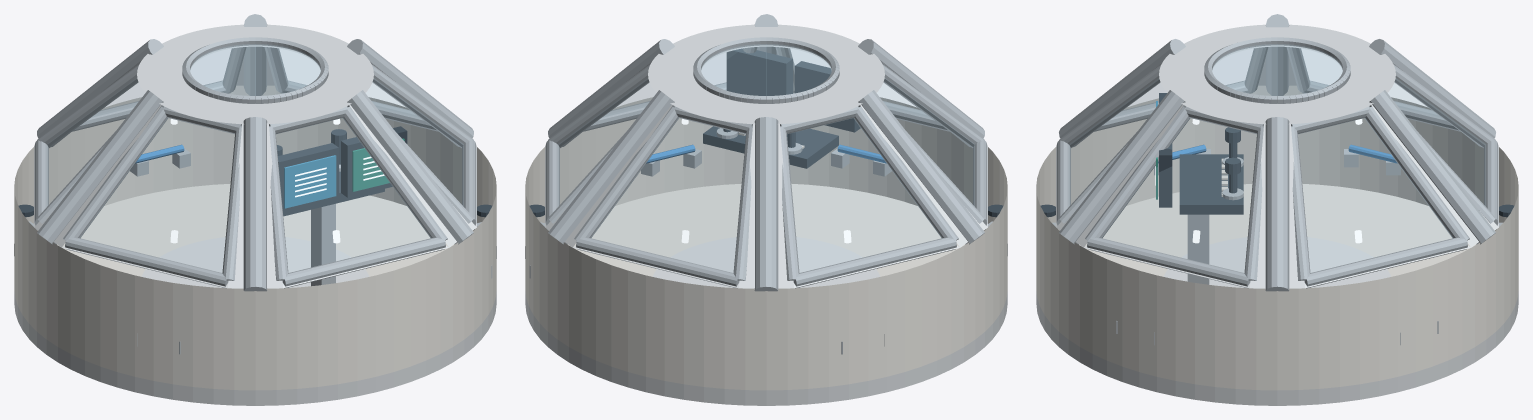
The model's file is cupola_detailed.glb.
3 views of the same model, side by side, from view 1: azimuth 30°, elevation 25°; view 2: azimuth 150°, elevation 25°; view 3: azimuth 270°, elevation 25° (orthographic).
Visible parts, largest first — view 1: nomex, steel, glass, hull, white, black, screen, screen2, light; view 2: nomex, glass, steel, hull, white, black, blue; view 3: nomex, steel, glass, hull, white, black, blue.
Part boxes in pixels (left/top/right/bottom): nomex: left=14, top=85, right=496, bottom=390; steel: left=14, top=14, right=496, bottom=354; glass: left=47, top=44, right=463, bottom=271; hull: left=14, top=24, right=496, bottom=405; white: left=57, top=183, right=454, bottom=276; black: left=18, top=126, right=492, bottom=217; screen: left=284, top=155, right=336, bottom=208; screen2: left=352, top=138, right=404, bottom=191; light: left=170, top=118, right=384, bottom=243; nomex: left=525, top=97, right=1007, bottom=390; glass: left=558, top=44, right=974, bottom=271; steel: left=525, top=14, right=1007, bottom=354; hull: left=525, top=24, right=1007, bottom=405; white: left=567, top=132, right=964, bottom=276; black: left=529, top=48, right=1003, bottom=217; blue: left=646, top=144, right=886, bottom=163; nomex: left=1036, top=85, right=1518, bottom=390; steel: left=1052, top=14, right=1502, bottom=345; glass: left=1069, top=44, right=1485, bottom=271; hull: left=1036, top=24, right=1518, bottom=405; white: left=1079, top=158, right=1475, bottom=276; black: left=1040, top=93, right=1514, bottom=217; blue: left=1158, top=144, right=1397, bottom=163.
Bounding box in the file's own units: 3.04 × 1.62 × 2.93.
